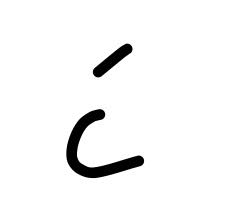i: (78, 33, 135, 90)
o: (56, 102, 152, 198)
